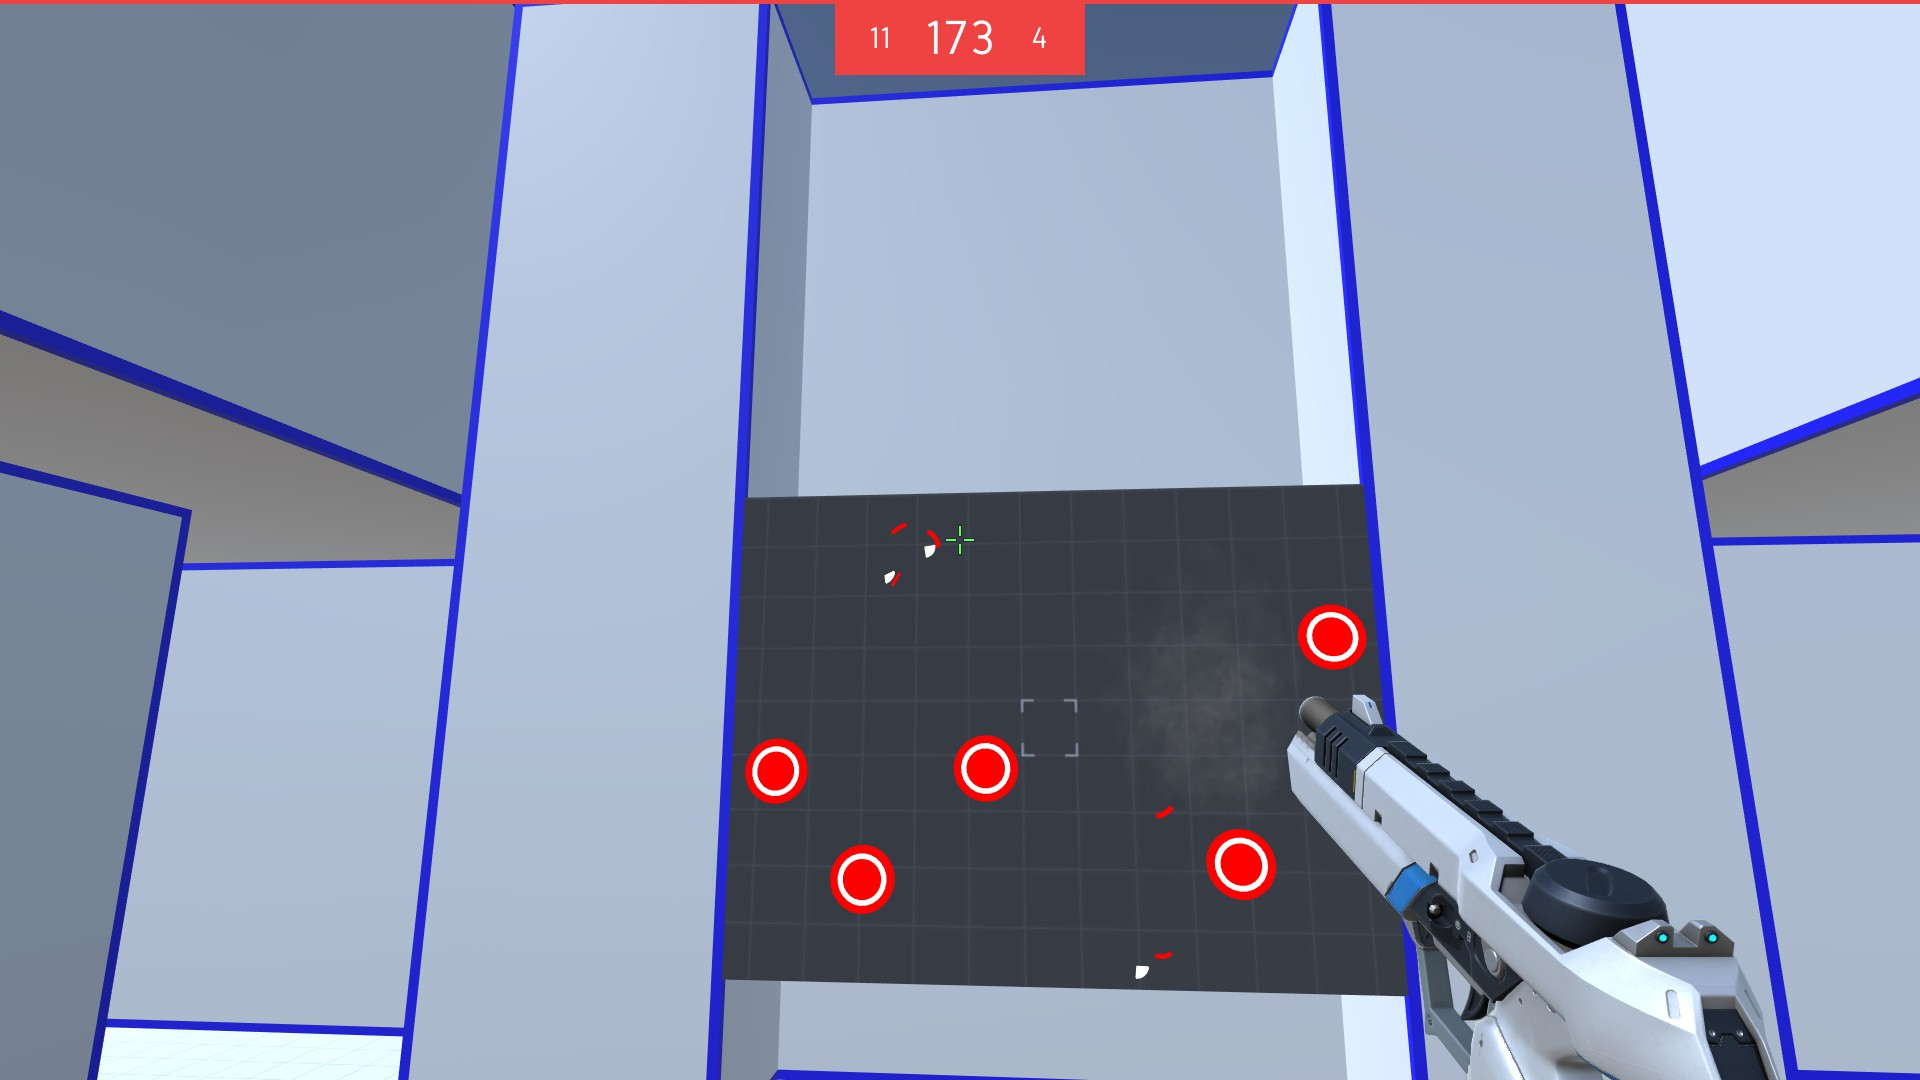target: (1197, 825, 1280, 905), (1295, 599, 1369, 675), (949, 731, 1023, 807), (825, 841, 899, 916), (740, 733, 814, 808)
